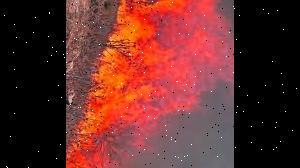fire: (70, 0, 234, 168)
